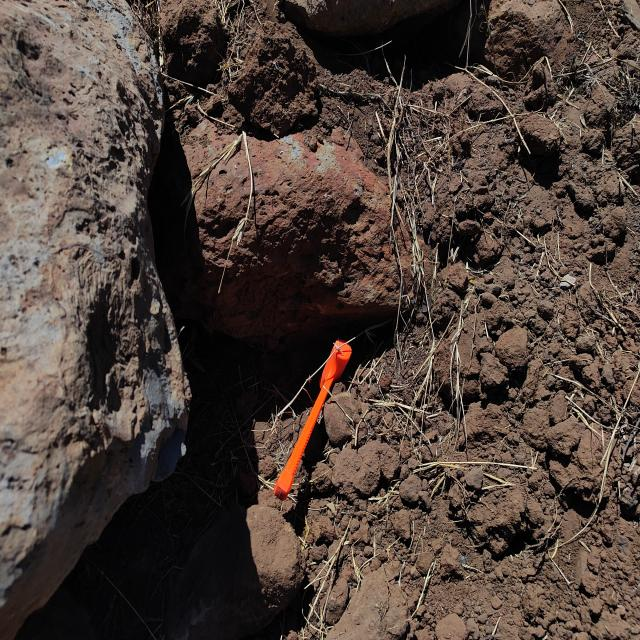Orange_hammer: (272, 338, 352, 500)
